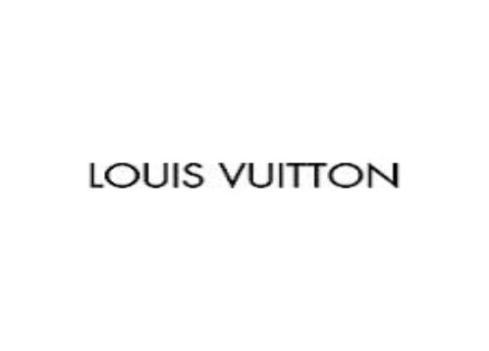LOUIS-VUITTON: (80, 152, 407, 210)
